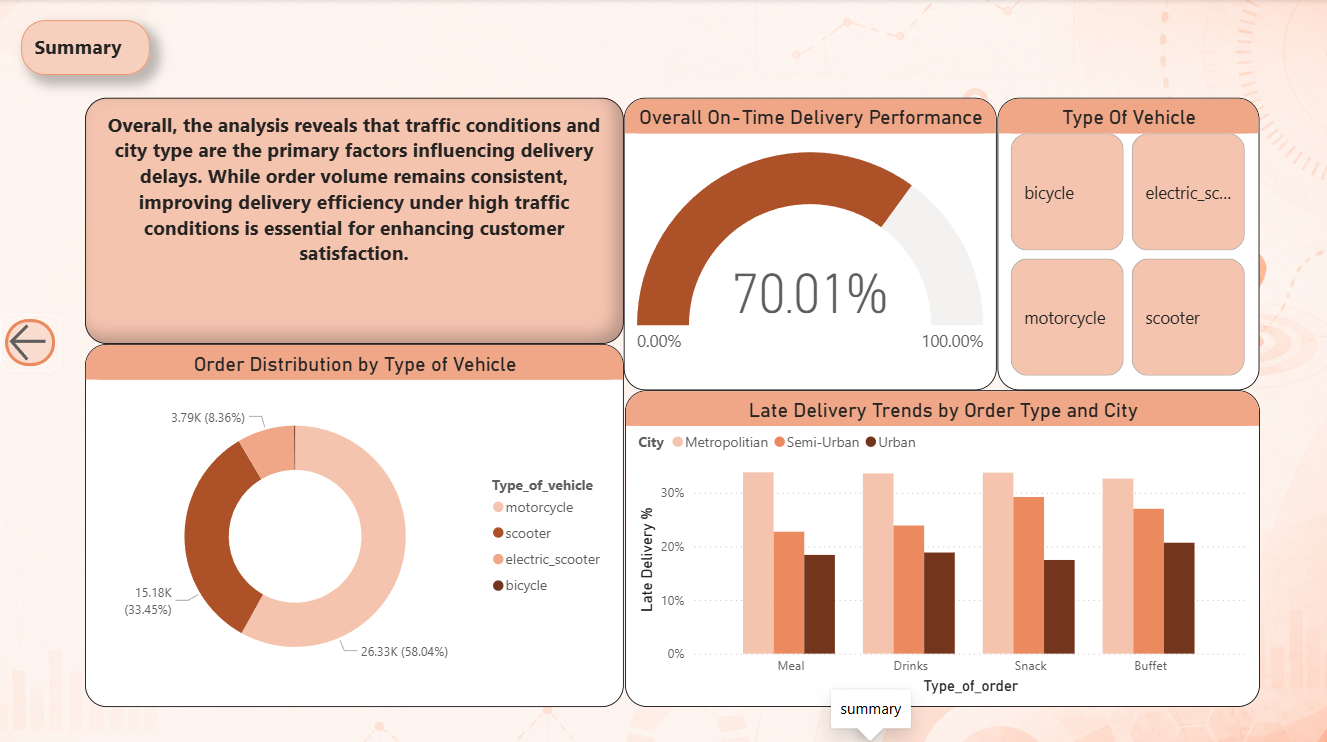

The page's visual inventory and layout, read from the dashboard file:
{"tool":"powerbi","page":{"name":"summary","canvas":[1280,720],"ordinal":6},"visuals":[{"type":"gauge","title":"Overall On-Time Delivery Performance","fields":{"Y":["train.On-Time Delivery %"]},"box":[602.5,95,360,282.5],"z":0},{"type":"clusteredColumnChart","title":"Late Delivery Trends by Order Type and City","fields":{"Category":["train.Type_of_order"],"Y":["train.Late Delivery %"],"Series":["train.City"]},"box":[603,377.4,613,306],"z":1000},{"type":"donutChart","title":"Order Distribution by Type of Vehicle","fields":{"Category":["train.Type_of_vehicle"],"Y":["train.Total Orders"]},"box":[82.5,332.5,520,350],"z":2000},{"type":"actionButton","box":[0,304.3,58.5,55.5],"z":3000},{"type":"textbox","box":[20.5,20.5,124.3,53.1],"z":4000},{"type":"advancedSlicerVisual","title":"Type Of Vehicle","fields":{"Values":["train.Type_of_vehicle"]},"box":[962.5,95,252.5,282.5],"z":5000},{"type":"textbox","box":[82.5,95,520,237.5],"z":6000}]}

Visuals, with their boxes in screenshot pixels (x1, y1, x2, y2), scaled from the page's 1280x720 canvas onto the 1327x742 screenshot:
"Overall On-Time Delivery Performance" gauge: locate(625, 98, 998, 389)
"Late Delivery Trends by Order Type and City" clusteredColumnChart: locate(625, 389, 1261, 704)
"Order Distribution by Type of Vehicle" donutChart: locate(86, 343, 625, 703)
actionButton: locate(0, 314, 61, 371)
textbox: locate(21, 21, 150, 76)
"Type Of Vehicle" advancedSlicerVisual: locate(998, 98, 1260, 389)
textbox: locate(86, 98, 625, 343)
